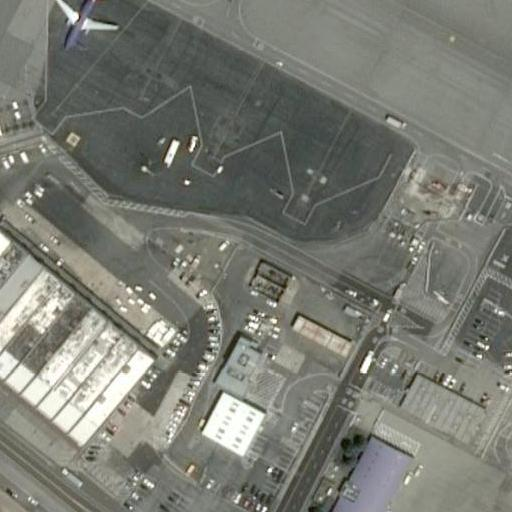Aircraft: (40, 0, 120, 53)
